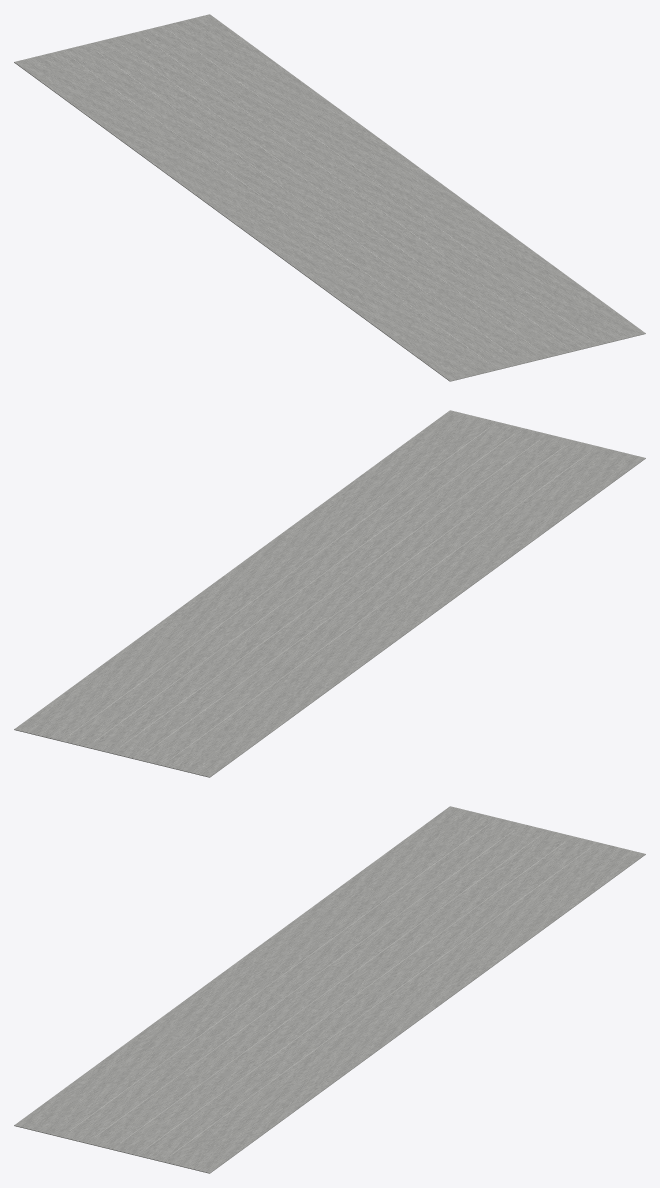
The model's file is fps-weapon-set-and-firing-range-range-lane-foundation-c7f462da__19521.glb.
3 views of the same model, one above another, from view 1: azimuth 30°, elevation 25°; view 2: azimuth 150°, elevation 25°; view 3: azimuth 330°, elevation 25° (orthographic).
Visible parts, largest first — view 1: range-lane-foundation; view 2: range-lane-foundation; view 3: range-lane-foundation.
Part boxes in pixels (<box>): range-lane-foundation: <box>14,14,645,381</box>; range-lane-foundation: <box>14,410,645,777</box>; range-lane-foundation: <box>14,806,645,1173</box>.
Bounding box in the file's own units: 14 × 0.0449 × 54.
Materials: 2 (2 with a texture image).
